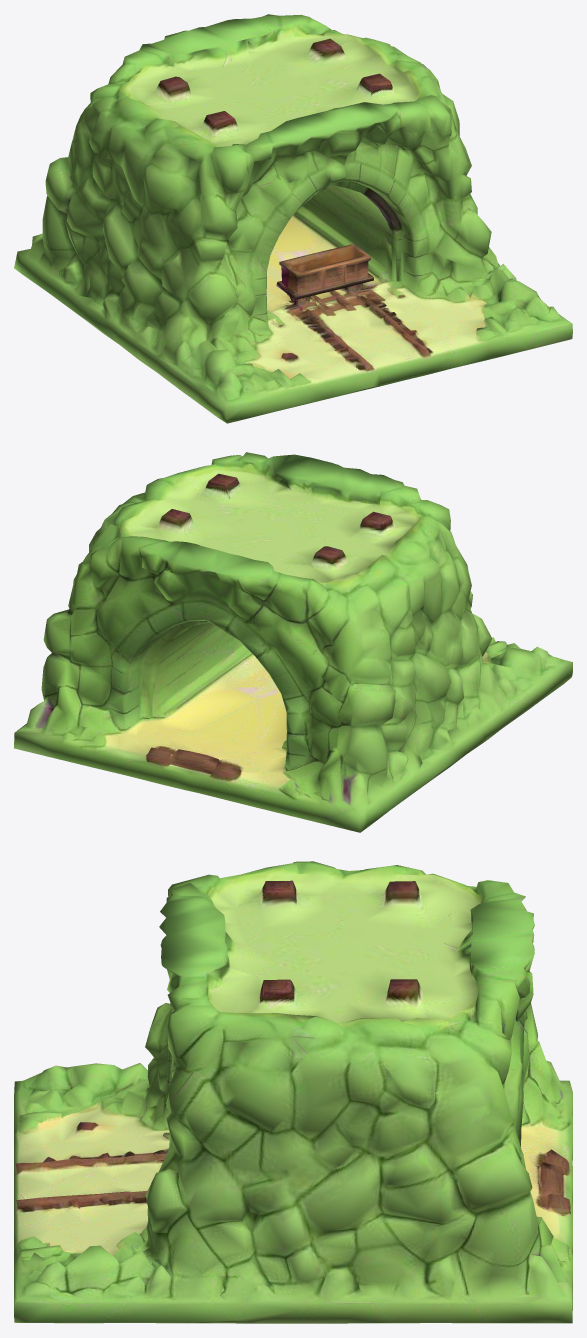
Rendered from lumbercamp.glb.
3 views of the same model, one above another, from view 1: azimuth 30°, elevation 25°; view 2: azimuth 150°, elevation 25°; view 3: azimuth 270°, elevation 25° (orthographic). The views are drawn at different scales.
Bounding box in the file's own units: 1.8 × 1.07 × 1.91.
Materials: 1 (1 with a texture image).
